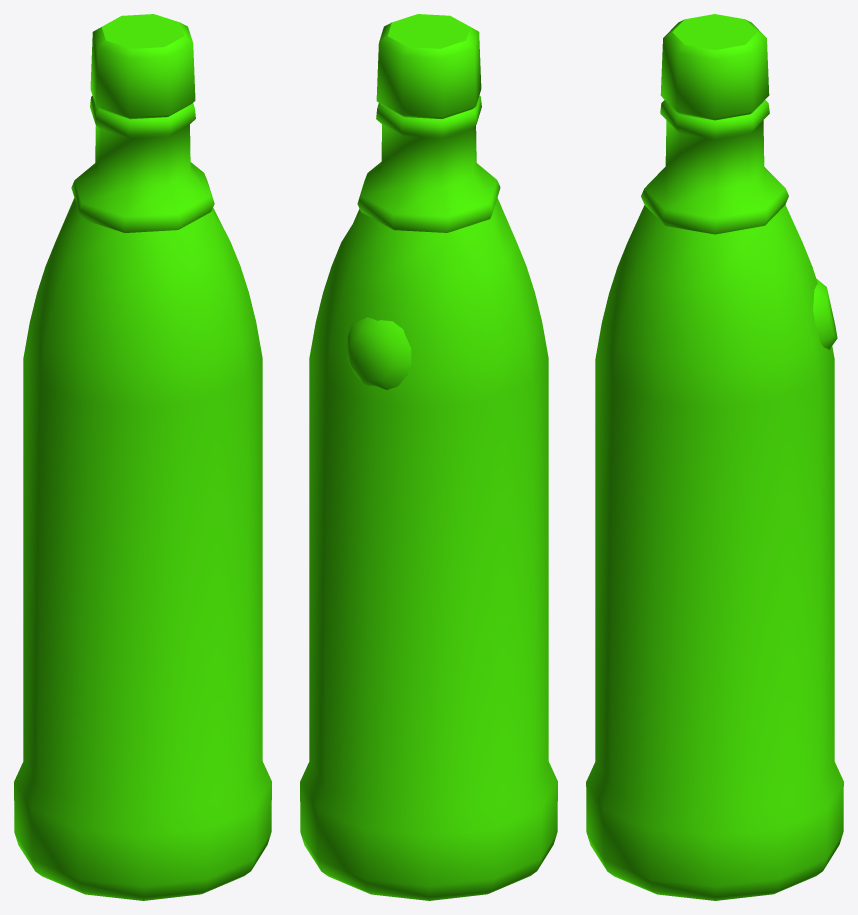
The model's file is 20_kahlua.gltf.
The picture shows the model from 3 angles, left to right: view 1: azimuth 30°, elevation 25°; view 2: azimuth 150°, elevation 25°; view 3: azimuth 270°, elevation 25°; orthographic projection.
Visible parts, largest first — view 1: Kahlua_Atlas_0; view 2: Kahlua_Atlas_0; view 3: Kahlua_Atlas_0.
Boxes of the visible parts, x1,y1,x2,y2 form: Kahlua_Atlas_0: (14, 14, 271, 900); Kahlua_Atlas_0: (300, 14, 557, 900); Kahlua_Atlas_0: (586, 14, 843, 900).
Bounding box in the file's own units: 7.36 × 25.82 × 7.36.
1 material, 1 textured.
